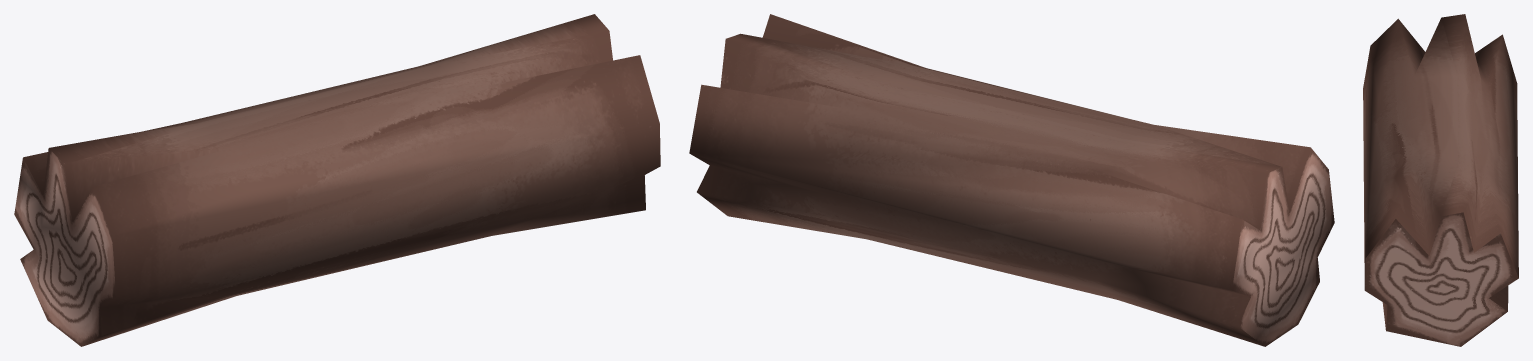
File: Log.fbx
3 renders of one model, left to right at view 1: azimuth 30°, elevation 25°; view 2: azimuth 150°, elevation 25°; view 3: azimuth 270°, elevation 25°, orthographic. The views are drawn at different scales.
Visible parts, largest first — view 1: Cylinder; view 2: Cylinder; view 3: Cylinder.
Boxes of the visible parts, left/top/right/bottom form: Cylinder: left=14, top=14, right=660, bottom=346; Cylinder: left=689, top=14, right=1334, bottom=346; Cylinder: left=1363, top=14, right=1518, bottom=346.
Bounding box in the file's own units: 301 × 94.46 × 98.95.
